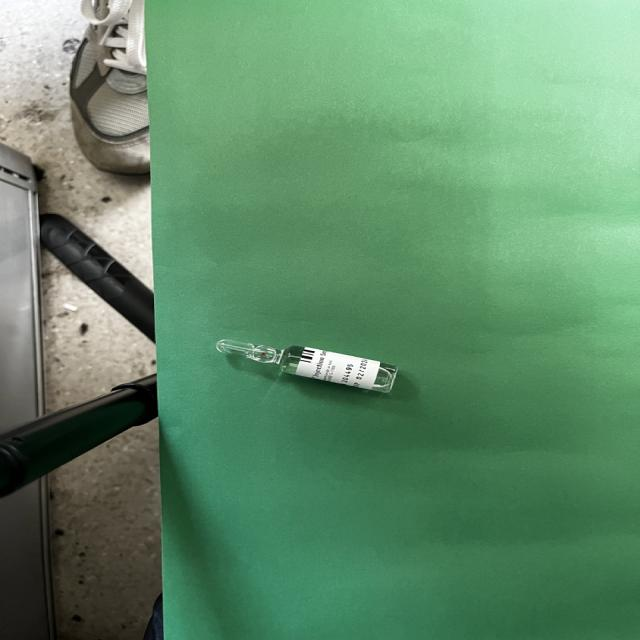Ampoules: (216, 340, 397, 393)
